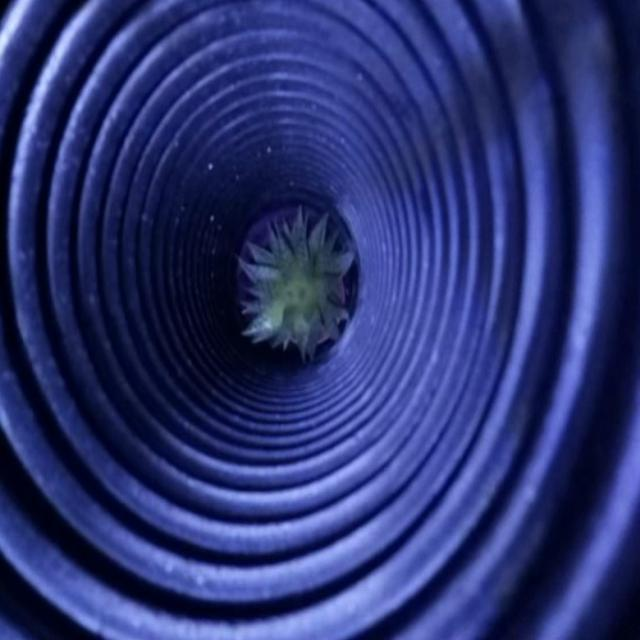leaf: (239, 207, 352, 361)
